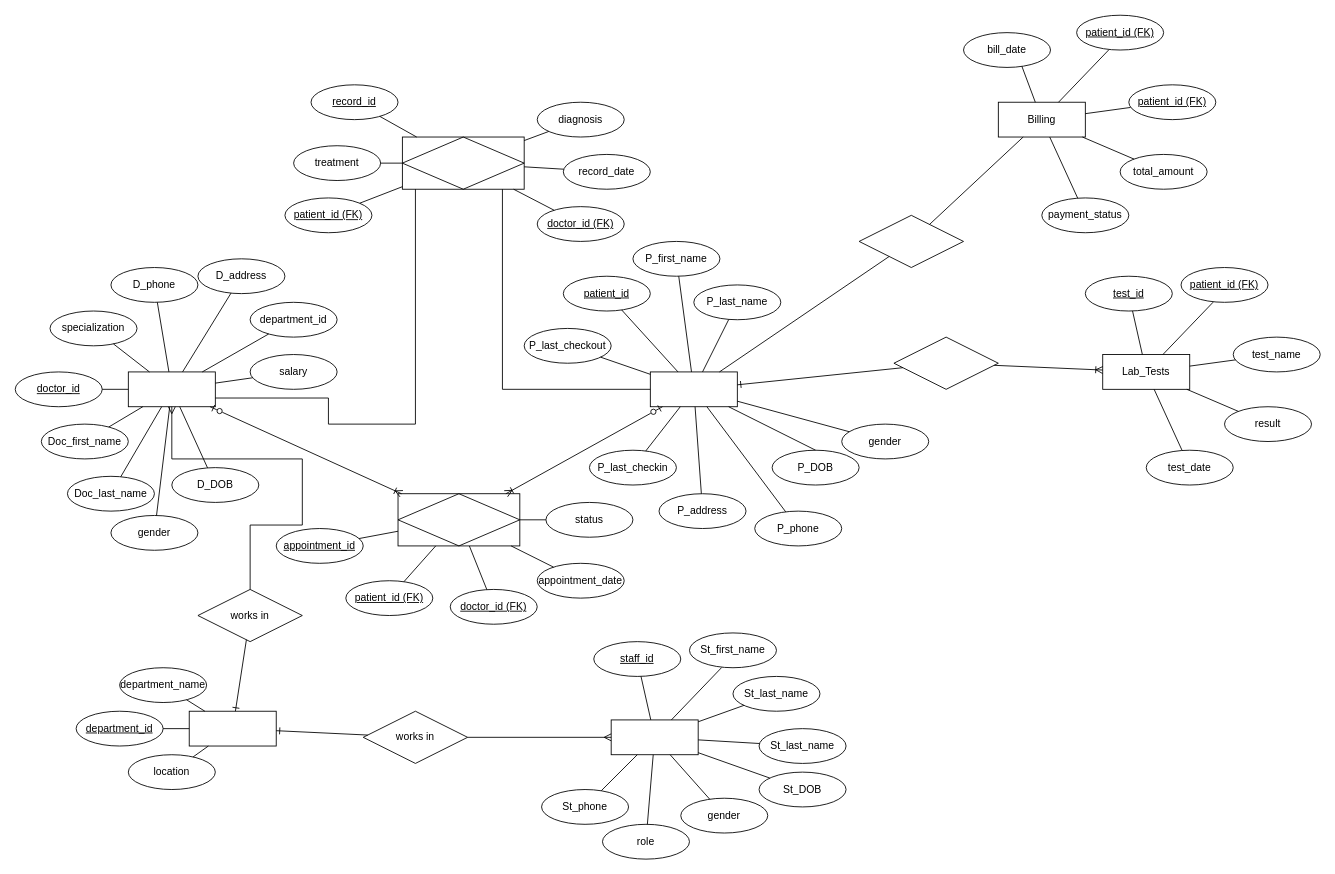
This 1335x874 diagram has some shape labels left out. The centre of each missing label's shape, as x and y in pixels:
Appointment: the point at 458,519
Department: the point at 232,728
Doctor: the point at 171,389
Medical_Records: the point at 463,162
Patient: the point at 693,389
pay: the point at 911,241
Staff: the point at 654,737
test: the point at 945,362
